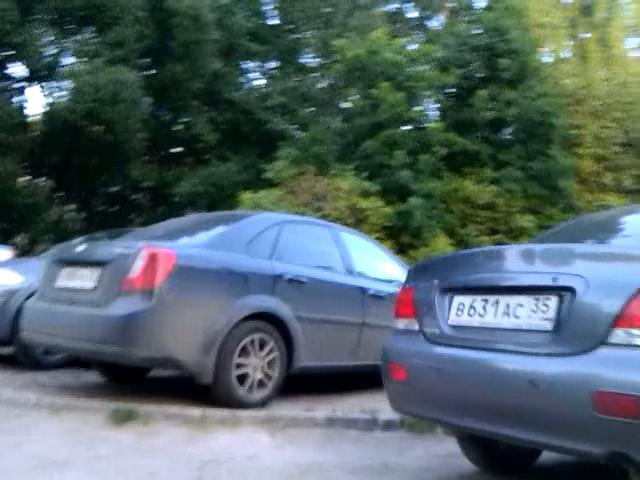car license plate: (447, 290, 560, 334), (54, 262, 100, 290)
